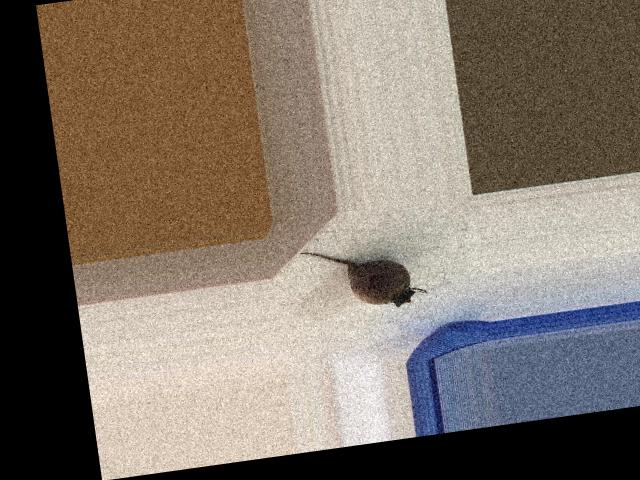beet: (300, 235, 427, 318)
